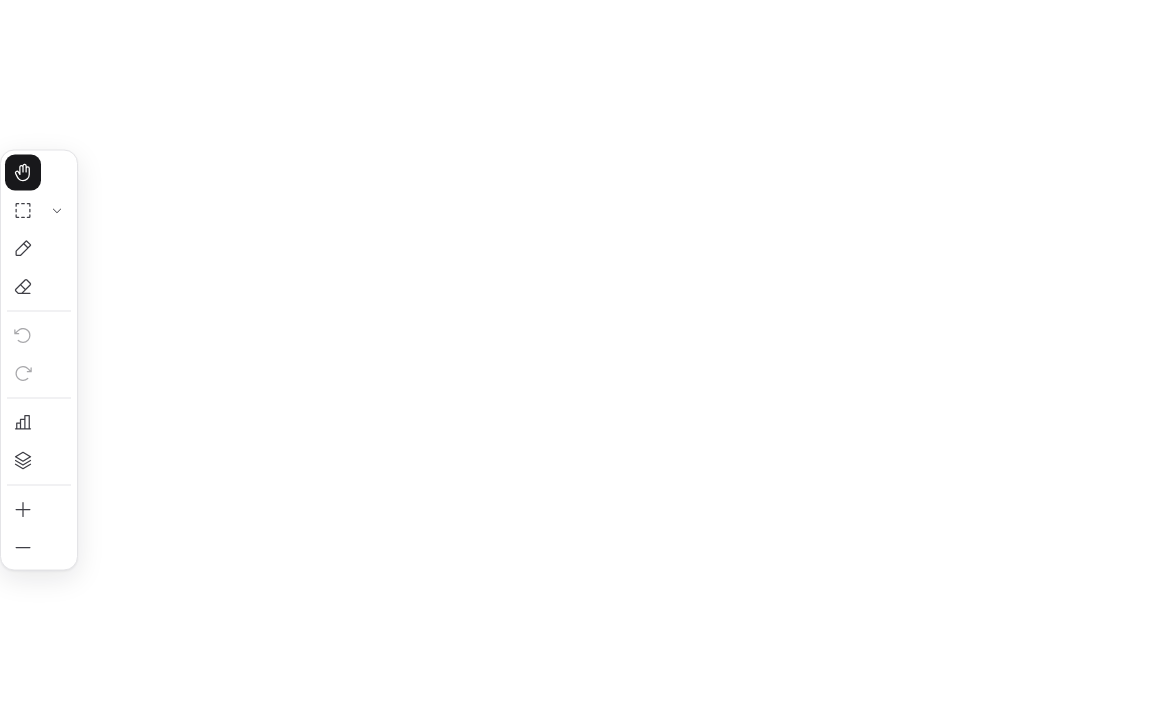
Test case: MapTools › leads a month past the weather to the last month it has
Later steps or results of the test are not shown.
Click the button named "Layers" at (23, 460), box [5,442,41,478]
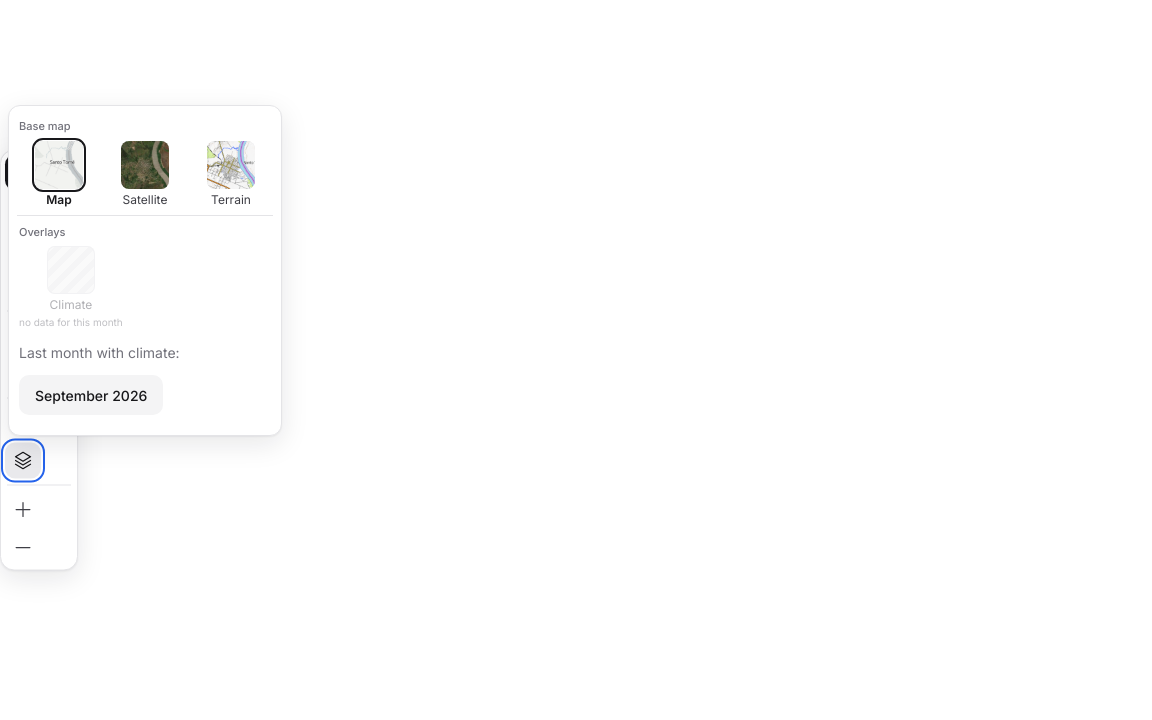
expect the text "Last month with climate:" is shown: met, box [19,342,180,363]
